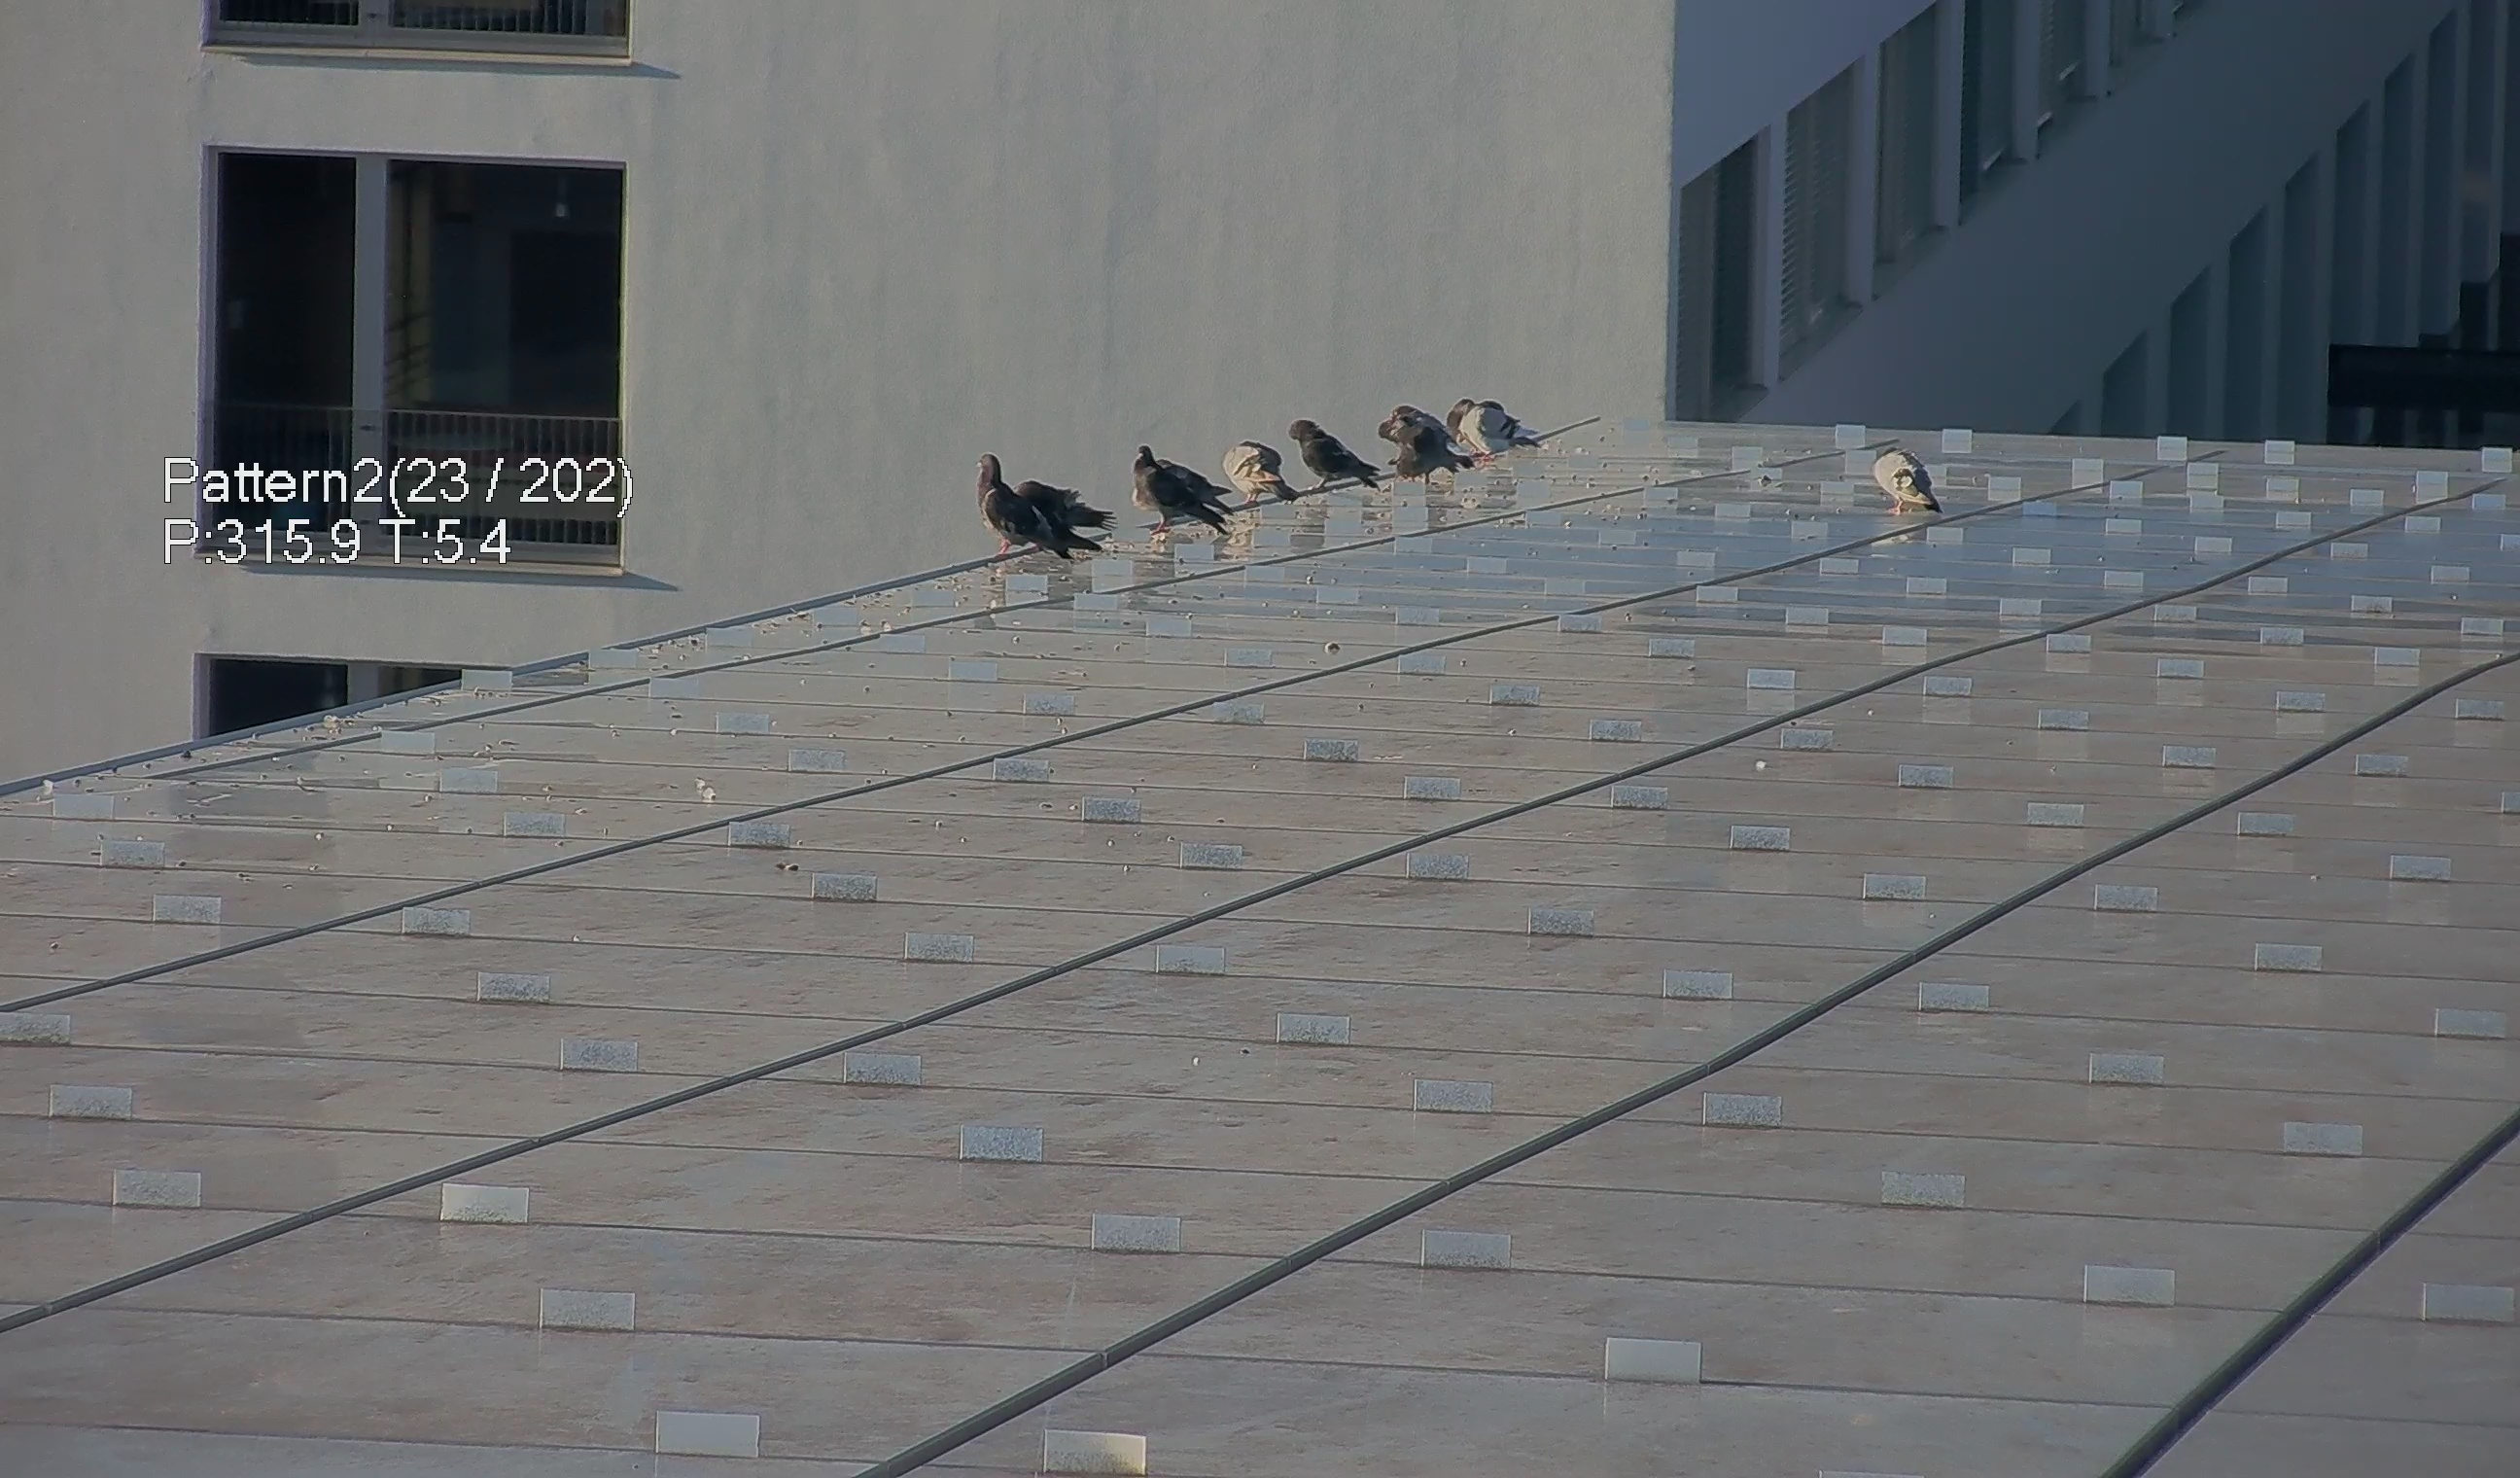Pigeon: (958, 447, 1090, 567), (1124, 442, 1233, 549), (1006, 465, 1118, 551), (1431, 394, 1556, 461), (1284, 408, 1382, 489), (1377, 408, 1475, 486), (1871, 442, 1948, 530), (1219, 438, 1303, 510)
